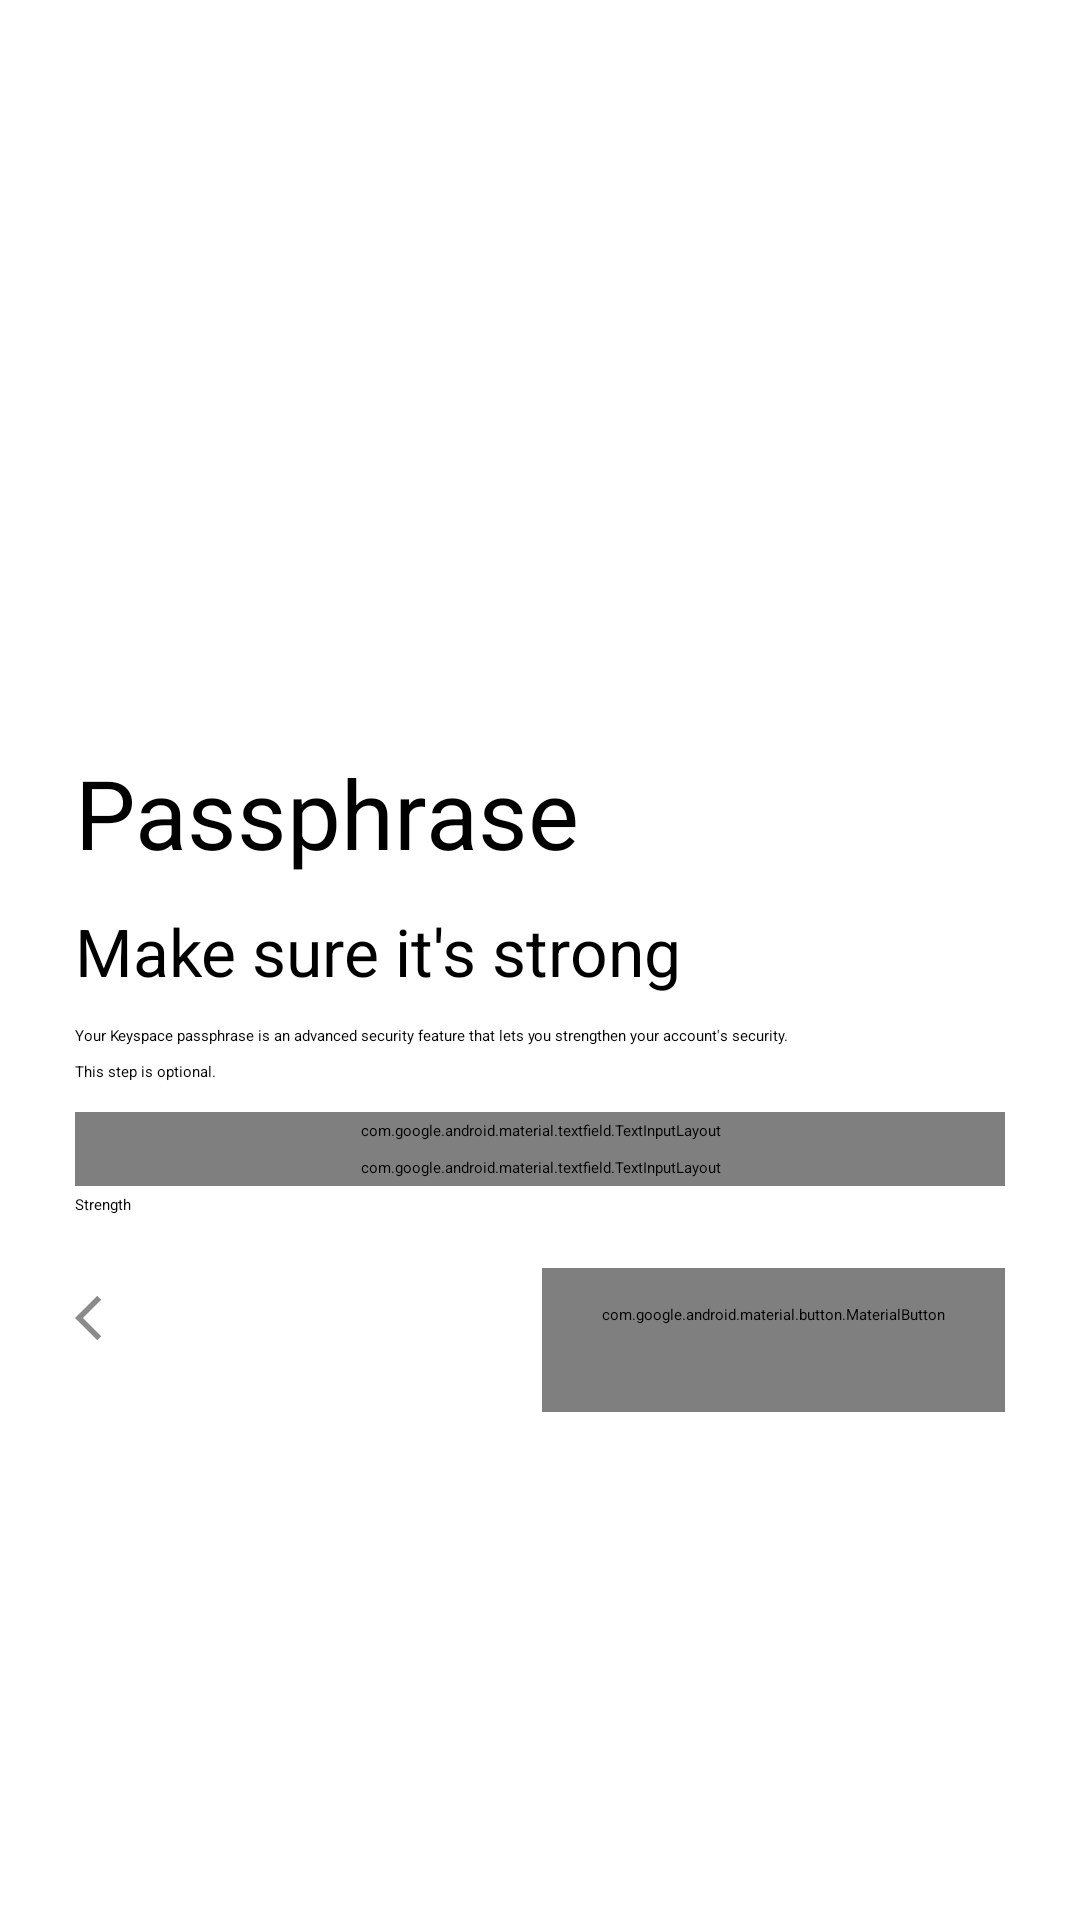

Named icons in this screenshot (1080px x 1920px) and their bounding boxes, (x1, y1, x2, y2):
arrow back: (75, 1296, 101, 1340)
